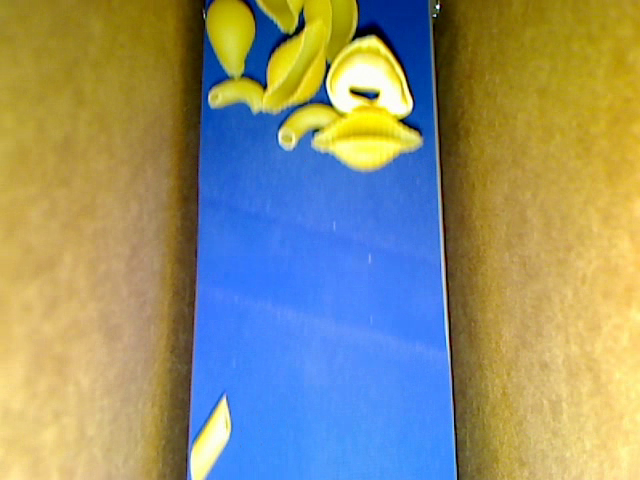elbow: (277, 103, 339, 151), (207, 77, 267, 113)
penne: (190, 391, 231, 479)
shell: (310, 105, 422, 171), (261, 18, 326, 114), (205, 1, 255, 80), (303, 1, 357, 63), (254, 1, 303, 33)
tortellini: (325, 34, 413, 119)
